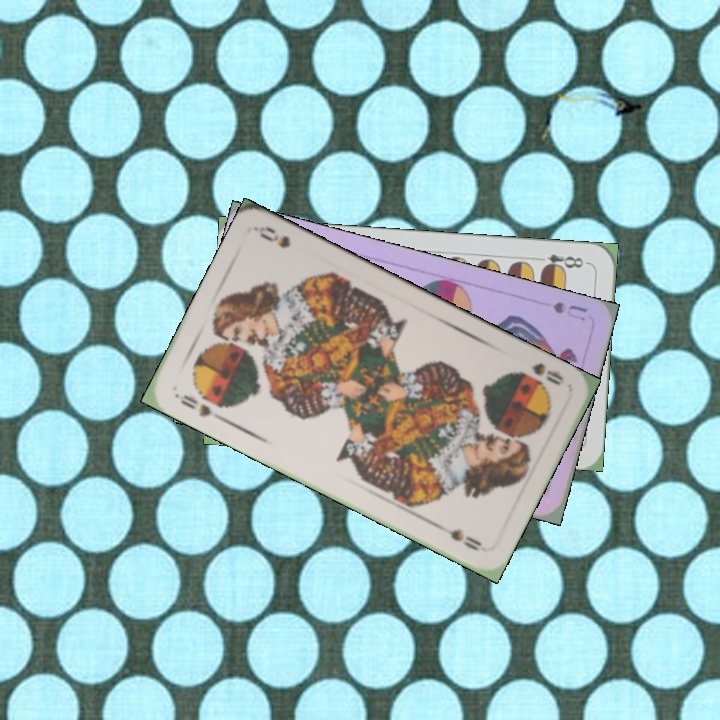E8: (532, 250, 591, 274)
SO: (176, 390, 226, 424), (527, 358, 567, 389)
SU: (549, 297, 590, 324)
